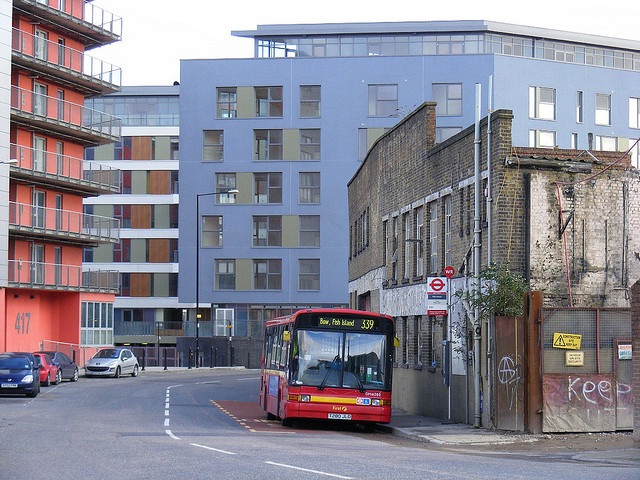Bus: (262, 307, 401, 428)
Car: (2, 348, 42, 402), (86, 346, 141, 382)
